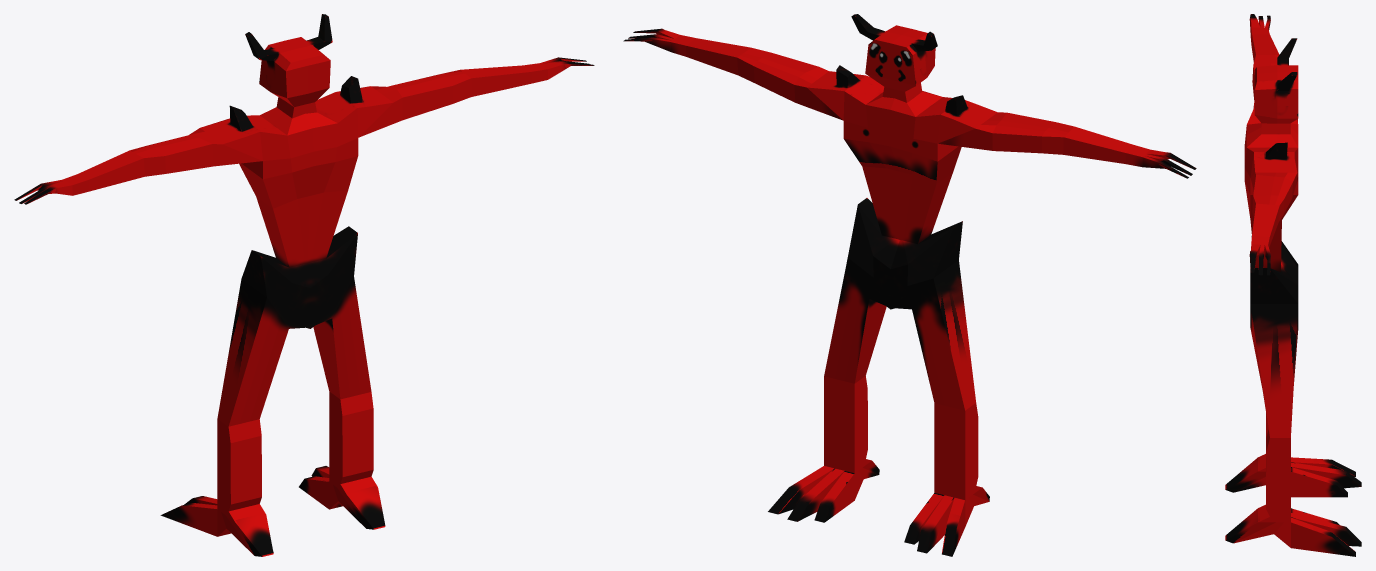
Rendered from SpeedyDemon.fbx.
The picture shows the model from 3 angles, left to right: view 1: azimuth 30°, elevation 25°; view 2: azimuth 150°, elevation 25°; view 3: azimuth 270°, elevation 25°; orthographic projection. The views are drawn at different scales.
Parts seen in each view (by area): view 1: Cube; view 2: Cube; view 3: Cube.
Boxes of the visible parts, <box> form: Cube: <box>14,14,594,556</box>; Cube: <box>623,14,1196,556</box>; Cube: <box>1225,14,1361,556</box>.
Bounding box in the file's own units: 514 × 424 × 114.
1 material, 1 textured.
